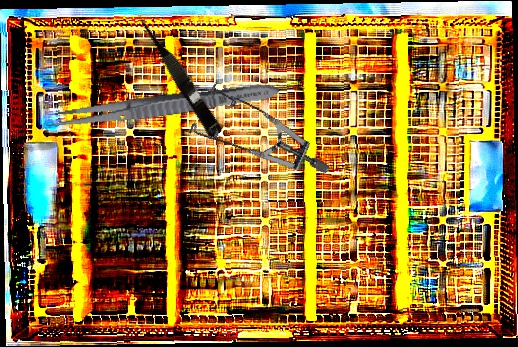Dressing Forceps: (43, 77, 281, 135)
Micro Scissor: (132, 8, 227, 139)
Speculum: (174, 54, 331, 224)
